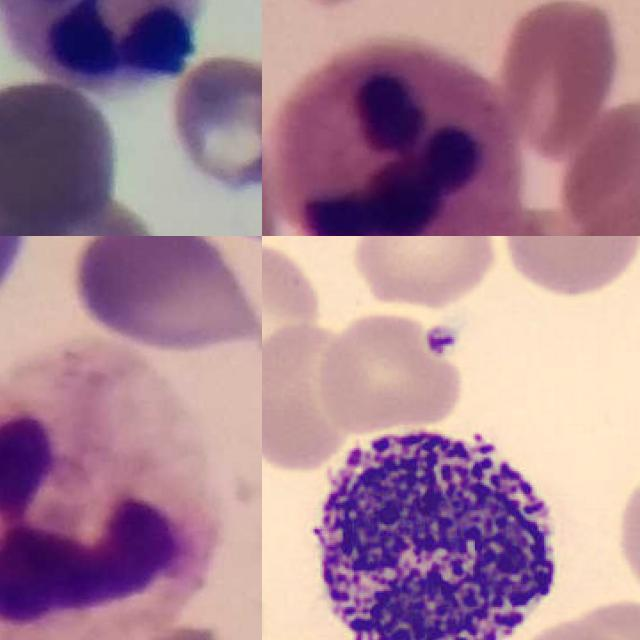Basophil: (297, 411, 574, 640)
Neutrophil: (0, 346, 217, 640), (270, 40, 524, 236), (0, 0, 202, 98)
Platelets: (420, 321, 464, 358)
RBC: (311, 309, 468, 434), (343, 236, 503, 312), (262, 236, 329, 393), (491, 236, 640, 302), (610, 448, 640, 606)
